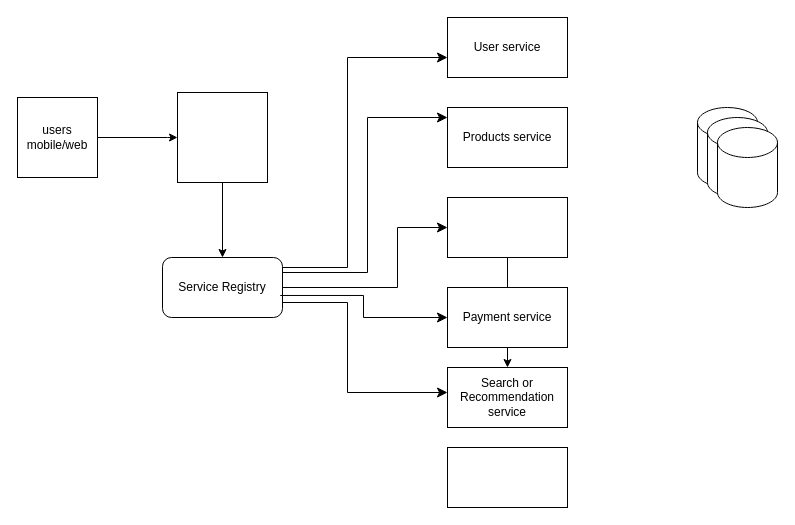
Image size: 795x525. Some labels were removed from this diagram. The centre of each missing label's shape, as x and y in pixels:
"Cache service" goes at point (507, 477).
"LB" goes at point (222, 137).
"Order service" goes at point (507, 227).
